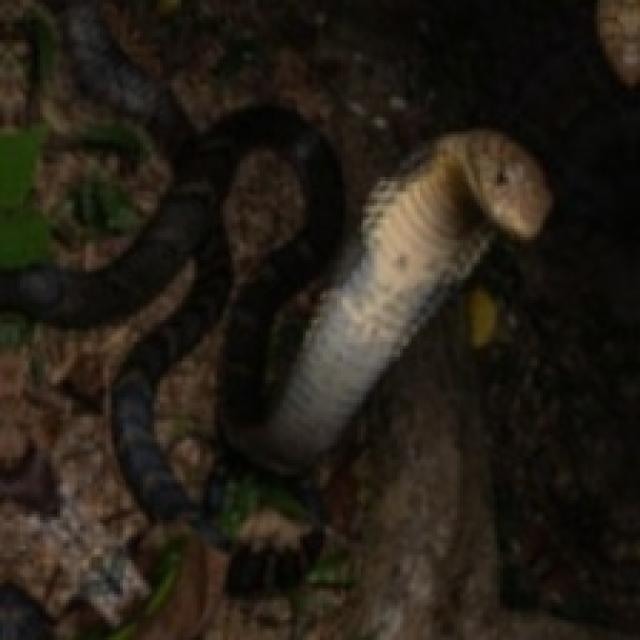king cobra: (0, 0, 549, 637)
